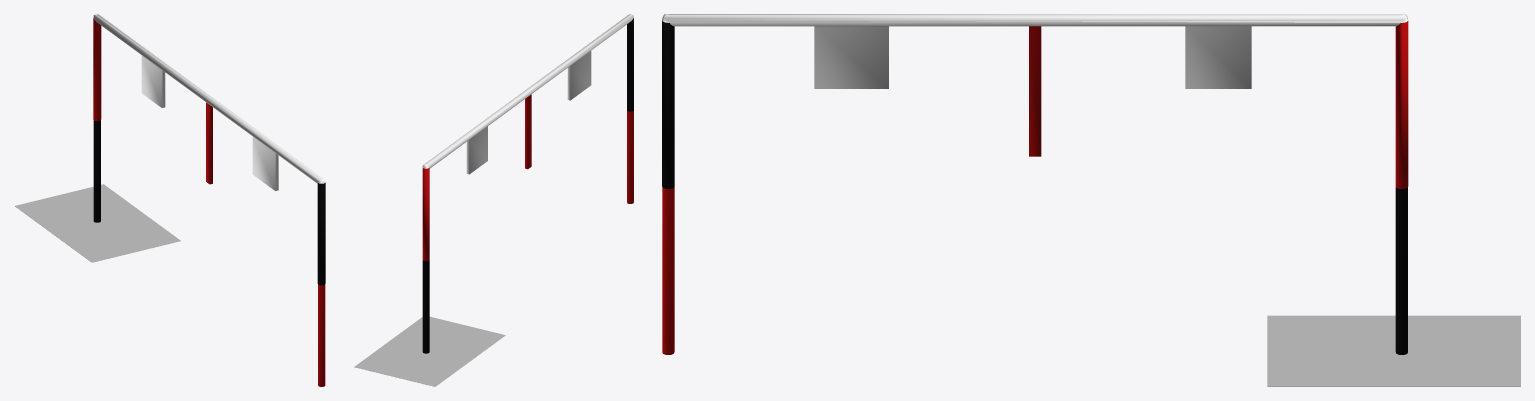
Rendered from task1blender.obj.
The picture shows the model from 3 angles, left to right: view 1: azimuth 30°, elevation 25°; view 2: azimuth 150°, elevation 25°; view 3: azimuth 270°, elevation 25°; orthographic projection. The views are drawn at different scales.
Visible parts, largest first — view 1: Marines; view 2: Marines; view 3: Marines.
Part boxes in pixels (<box>): Marines: <box>15,14,325,386</box>; Marines: <box>354,14,633,386</box>; Marines: <box>662,14,1520,386</box>.
Bounding box in the file's own units: 6.89 × 15.26 × 35.13.
